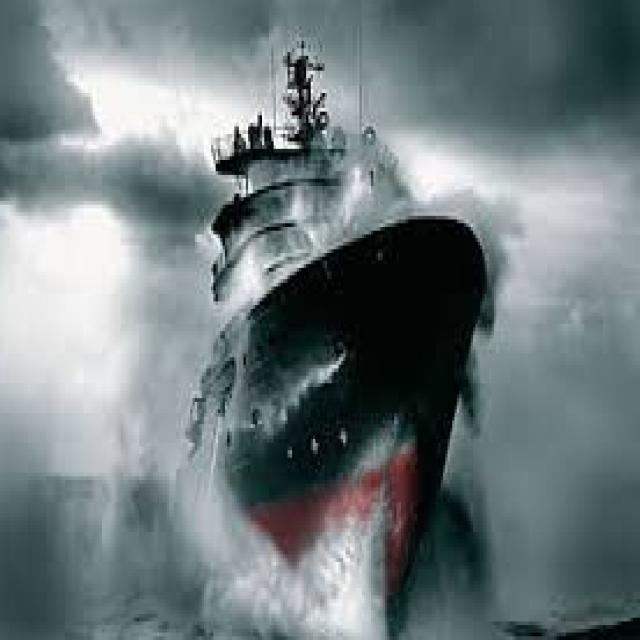passenger ship: (164, 35, 486, 628)
